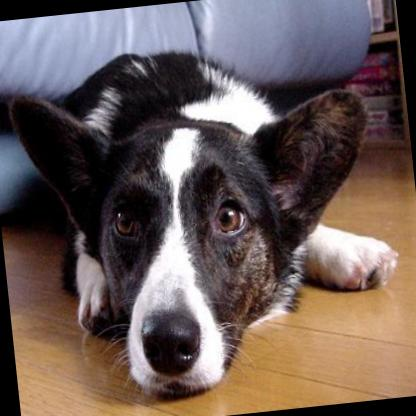Cardigan: (4, 23, 408, 413)
